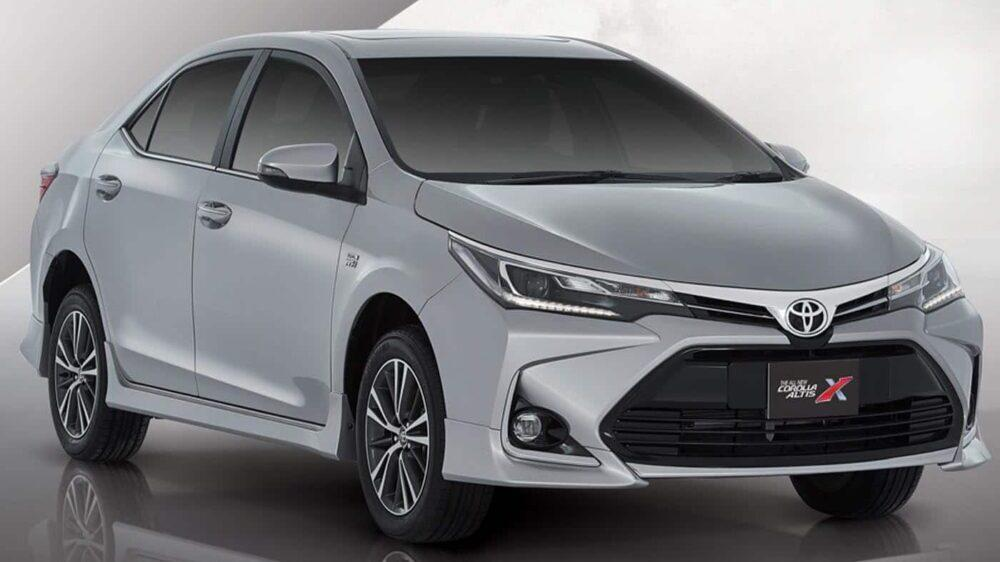windshield: (340, 45, 822, 202)
